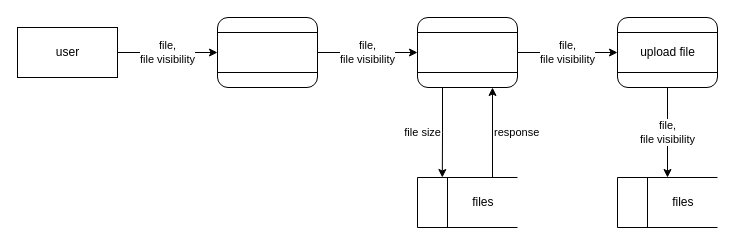
The diagram is 735 pixels wide and 245 high, and some of its shapes have lost their labels. Each missing label, with the centre of its shape:
sanitise and validate input: pixel 267 52
verify that space is available: pixel 467 52
